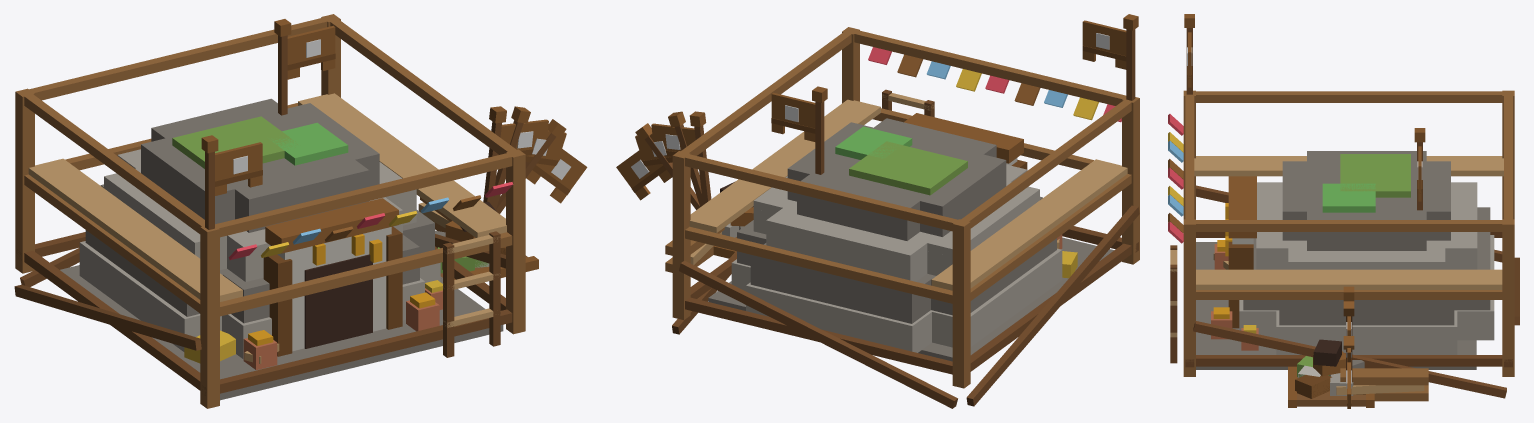
File: bear-producer.glb
The picture shows the model from 3 angles, left to right: view 1: azimuth 30°, elevation 25°; view 2: azimuth 150°, elevation 25°; view 3: azimuth 270°, elevation 25°; orthographic projection. The views are drawn at different scales.
Parts seen in each view (by area): view 1: scaffold-mesh, built-mesh, dismantle-75-mesh, dismantle-50-mesh, banner, scaffold-banner, dismantle-25-banner, flag-pole, scaffold-flag-pole, dismantle-25-mesh, dismantle-50-banner, dismantle-75-banner (+3 smaller); view 2: scaffold-mesh, built-mesh, dismantle-75-mesh, dismantle-50-mesh, scaffold-banner, banner, dismantle-25-banner, flag-pole, scaffold-flag-pole, dismantle-75-banner, dismantle-75-flag-pole, dismantle-50-flag-pole (+3 smaller); view 3: scaffold-mesh, built-mesh, dismantle-50-mesh, dismantle-75-mesh, dismantle-25-mesh, flag-pole, scaffold-flag-pole.
Boxes of the visible parts, <box> form: scaffold-mesh: <box>14,14,525,408</box>; built-mesh: <box>80,98,434,369</box>; dismantle-75-mesh: <box>101,184,538,358</box>; dismantle-50-mesh: <box>60,233,538,379</box>; banner: <box>287,25,335,79</box>; scaffold-banner: <box>215,142,262,195</box>; dismantle-25-banner: <box>526,143,587,203</box>; flag-pole: <box>274,19,291,115</box>; scaffold-flag-pole: <box>201,135,218,229</box>; dismantle-25-mesh: <box>185,202,532,362</box>; dismantle-50-banner: <box>515,127,566,175</box>; dismantle-75-banner: <box>500,119,548,158</box>; scaffold-mesh: <box>665,27,1139,408</box>; built-mesh: <box>731,113,1061,351</box>; dismantle-75-mesh: <box>713,196,1072,360</box>; dismantle-50-mesh: <box>708,226,1113,361</box>; scaffold-banner: <box>1082,20,1126,69</box>; banner: <box>771,92,815,141</box>; dismantle-25-banner: <box>616,145,671,200</box>; flag-pole: <box>812,86,827,174</box>; scaffold-flag-pole: <box>1123,14,1138,100</box>; dismantle-75-banner: <box>651,123,695,158</box>; dismantle-75-flag-pole: <box>689,111,711,204</box>; dismantle-50-flag-pole: <box>668,111,704,206</box>; scaffold-mesh: <box>1168,90,1519,401</box>; built-mesh: <box>1213,151,1494,333</box>; dismantle-50-mesh: <box>1196,242,1476,407</box>; dismantle-75-mesh: <box>1214,207,1490,407</box>; dismantle-25-mesh: <box>1213,253,1365,406</box>; flag-pole: <box>1414,128,1425,210</box>; scaffold-flag-pole: <box>1184,14,1194,94</box>.
Bounding box in the file's own units: 2.7 × 1.55 × 1.99.
